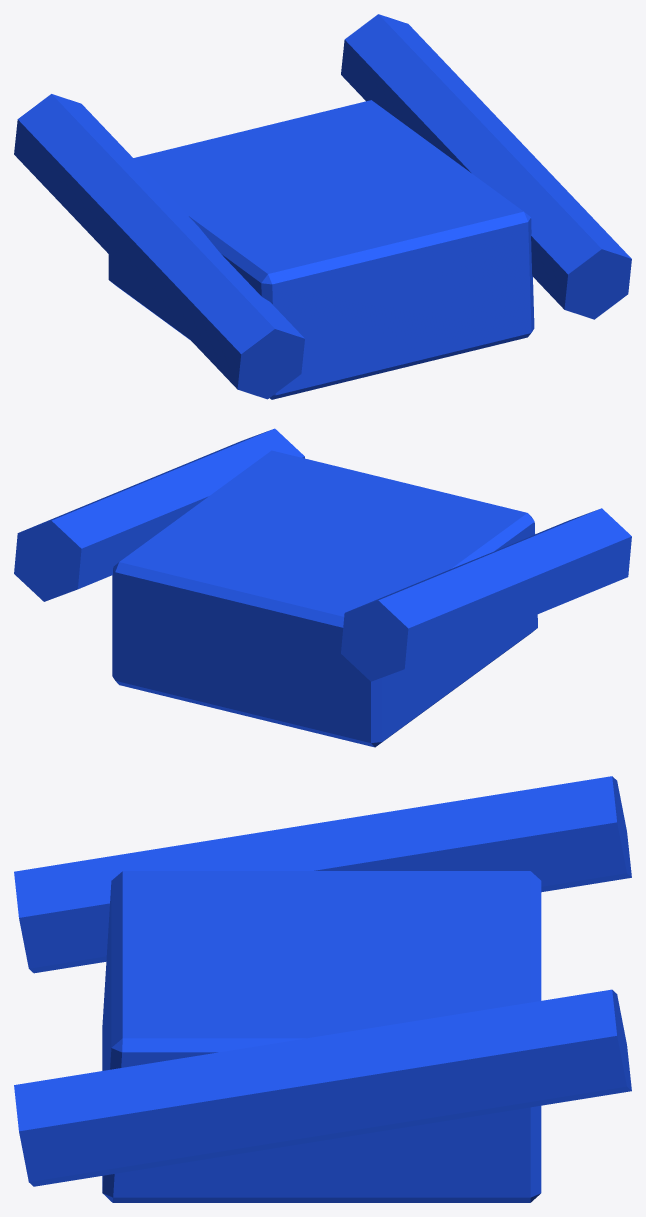
Rendered from TorpedoLauncher.fbx.
The picture shows the model from 3 angles, top to bottom: view 1: azimuth 30°, elevation 25°; view 2: azimuth 150°, elevation 25°; view 3: azimuth 270°, elevation 25°; orthographic projection. The views are drawn at different scales.
Parts seen in each view (by area): view 1: TorpedoLauncher; view 2: TorpedoLauncher; view 3: TorpedoLauncher.
Part boxes in pixels (box(x1,y1,x2,y2)): TorpedoLauncher: box(14, 14, 631, 399); TorpedoLauncher: box(14, 428, 631, 747); TorpedoLauncher: box(14, 776, 631, 1202).
Bounding box in the file's own units: 63.6 × 27.63 × 65.11.
